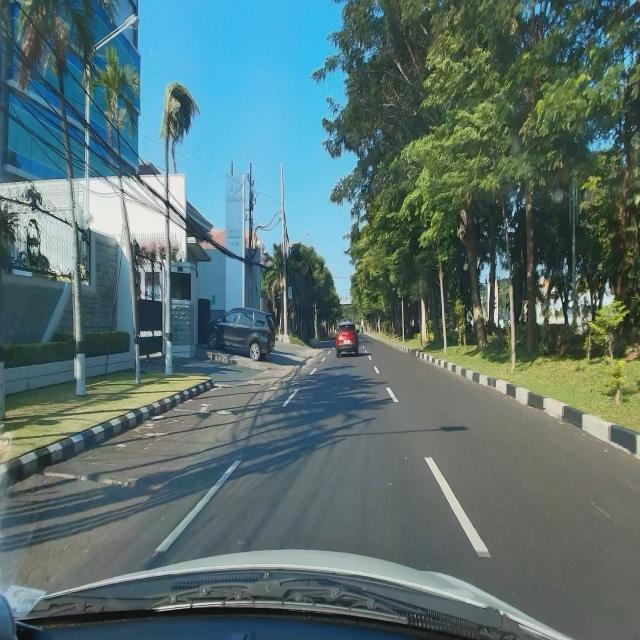car: (336, 321, 360, 358)
